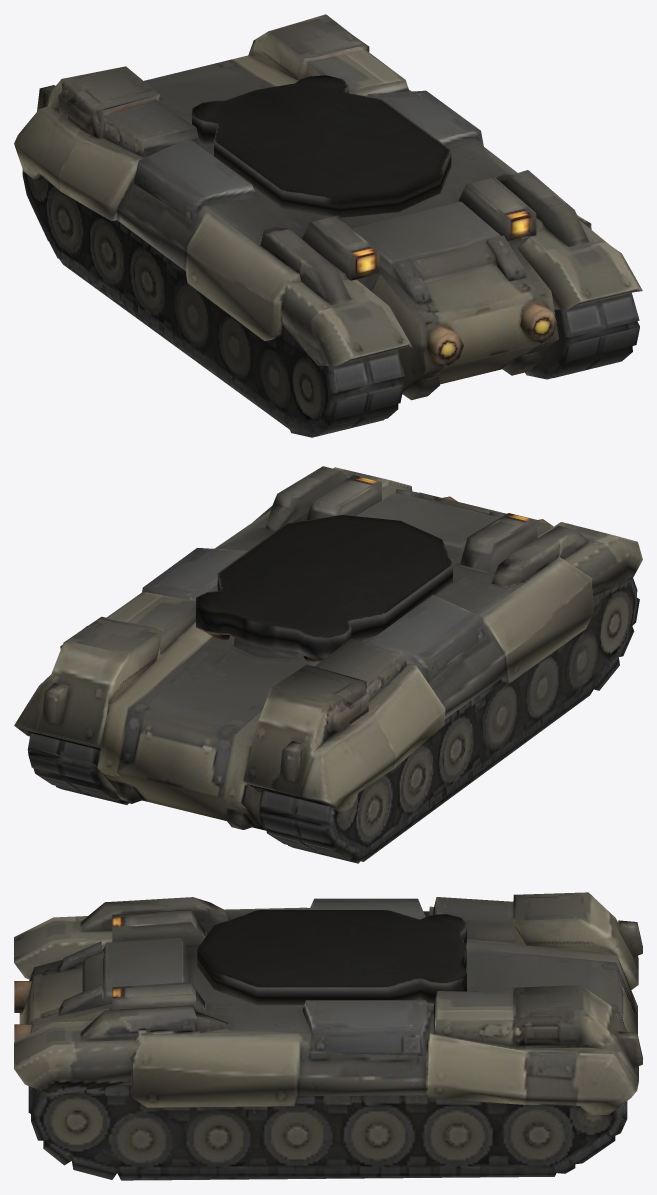
The model's file is Tank_Hull.glb.
The picture shows the model from 3 angles, top to bottom: view 1: azimuth 30°, elevation 25°; view 2: azimuth 150°, elevation 25°; view 3: azimuth 270°, elevation 25°; orthographic projection. The views are drawn at different scales.
Visible parts, largest first — view 1: tripo_node_34a4ac1d-4a95-4601-862d-ea316d1f84e6; view 2: tripo_node_34a4ac1d-4a95-4601-862d-ea316d1f84e6; view 3: tripo_node_34a4ac1d-4a95-4601-862d-ea316d1f84e6.
Part boxes in pixels (box(x1,y1,x2,y2)): tripo_node_34a4ac1d-4a95-4601-862d-ea316d1f84e6: box(14, 14, 642, 437); tripo_node_34a4ac1d-4a95-4601-862d-ea316d1f84e6: box(14, 466, 642, 863); tripo_node_34a4ac1d-4a95-4601-862d-ea316d1f84e6: box(14, 892, 642, 1180).
Bounding box in the file's own units: 0.5835 × 0.2845 × 0.9995.
Materials: 1 (1 with a texture image).
